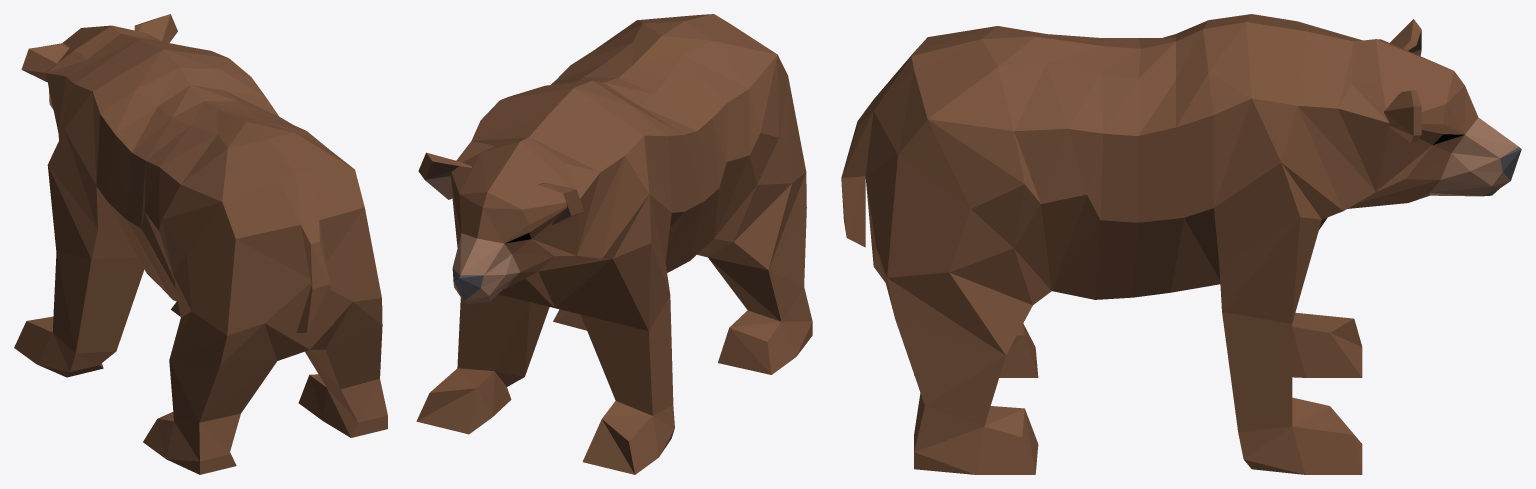
File: npc_world_witches_experiment_third_form_0.obj
The picture shows the model from 3 angles, left to right: view 1: azimuth 30°, elevation 25°; view 2: azimuth 150°, elevation 25°; view 3: azimuth 270°, elevation 25°; orthographic projection. The views are drawn at different scales.
Bounding box in the file's own units: 0.875 × 1.24 × 1.97.
